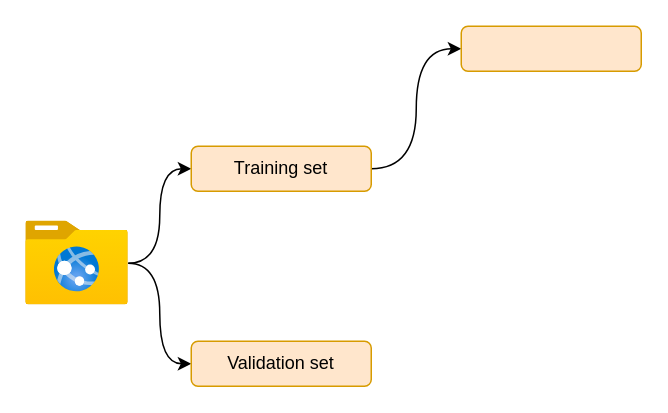
The diagram is 668 pixels wide and 413 high, and some of its shapes have lost their labels. The shapes that lost their labels are listed below. From the top down, each one's centre as x and y in pixels, then its label:
the point at 550,48: Extract i/p - o/p data (image - label)
the point at 77,262: Dataset
